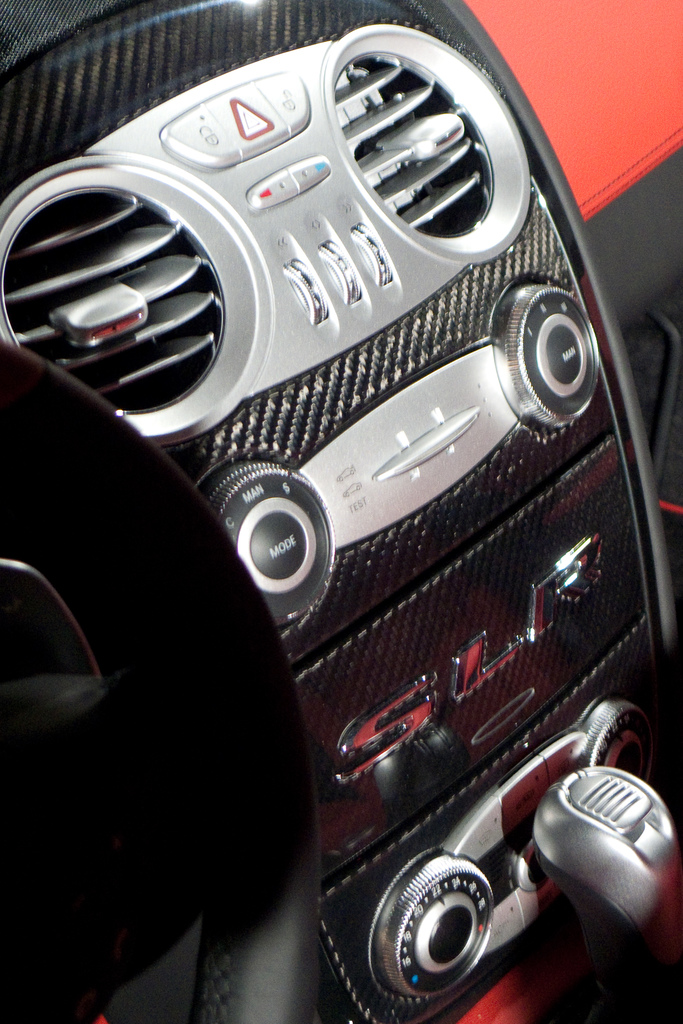cars: (25, 0, 627, 915)
